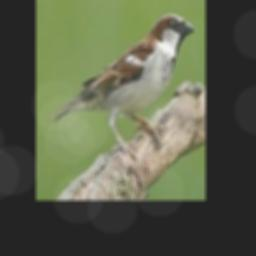Sparrow: (46, 14, 195, 162)
